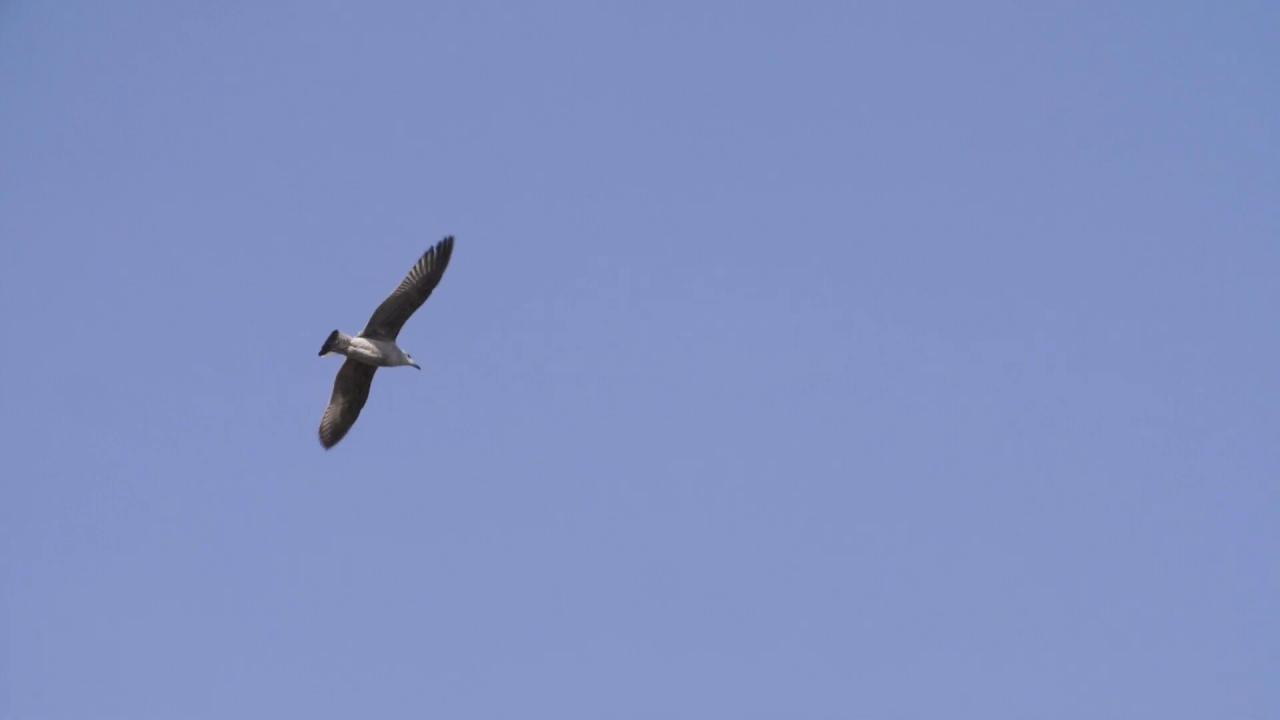Bird: (298, 224, 468, 458)
